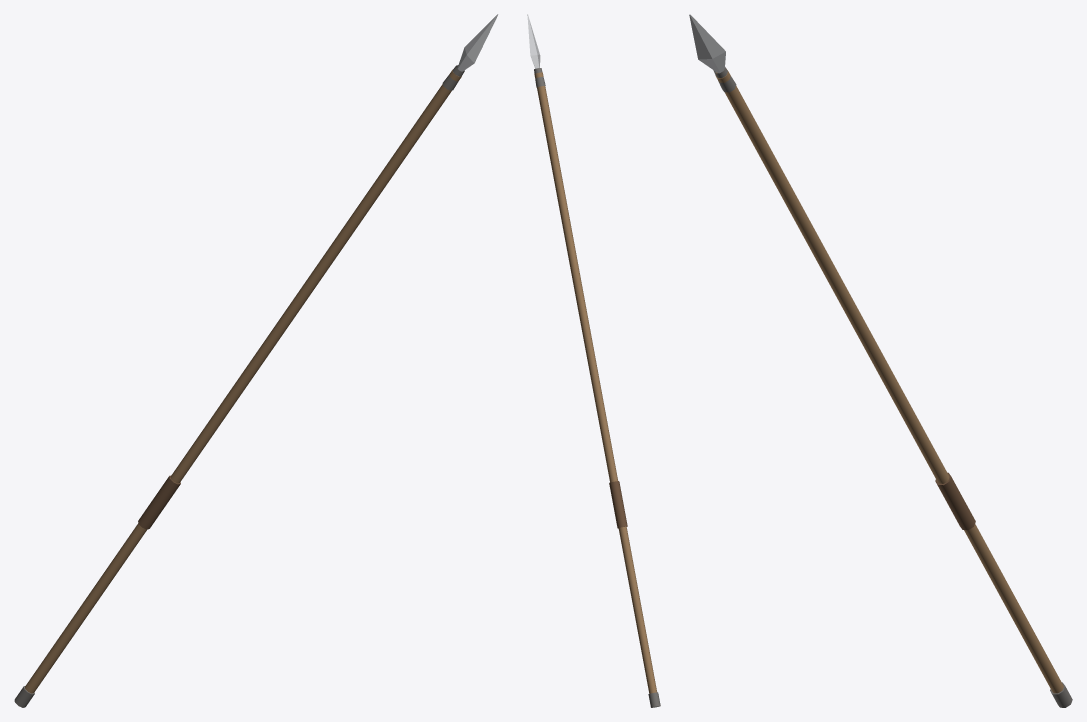
Rendered from wpn_pike.glb.
The picture shows the model from 3 angles, left to right: view 1: azimuth 30°, elevation 25°; view 2: azimuth 150°, elevation 25°; view 3: azimuth 270°, elevation 25°; orthographic projection. The views are drawn at different scales.
Visible parts, largest first — view 1: wpn_pike; view 2: wpn_pike; view 3: wpn_pike.
Boxes of the visible parts, bbox=[...] form: wpn_pike: bbox=[14, 14, 498, 707]; wpn_pike: bbox=[527, 14, 660, 707]; wpn_pike: bbox=[689, 14, 1072, 707].
Bounding box in the file's own units: 0.6214 × 1.31 × 0.5153.
